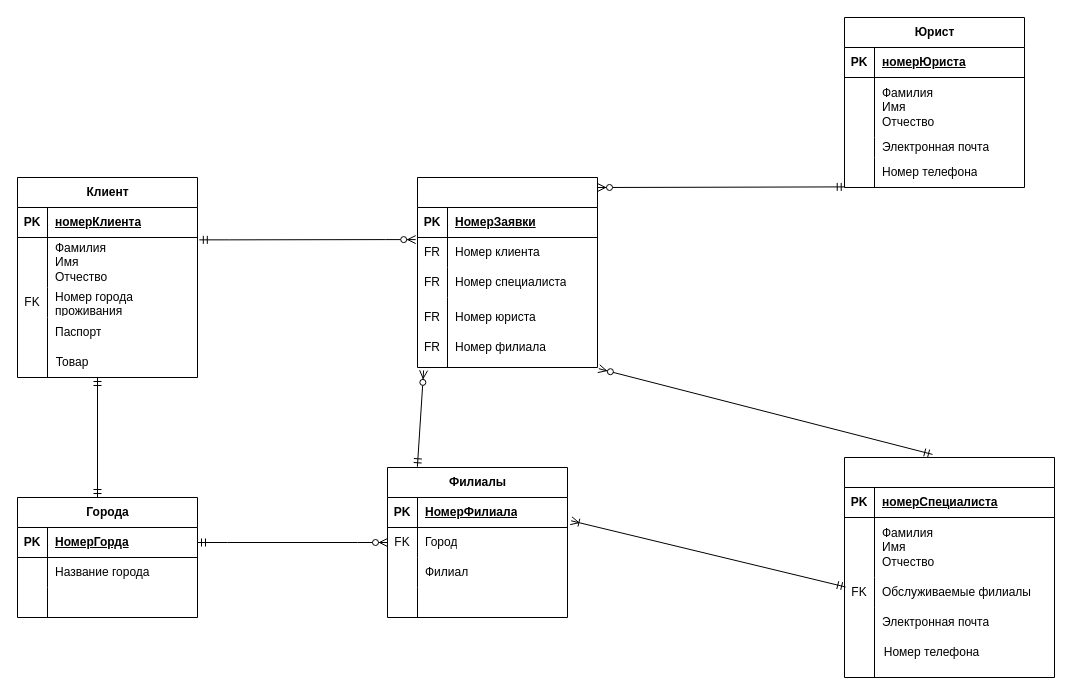
Some shapes in this 1072 by 696 pixel diagram are drawn without their labels. The box of each missing label's shape, as (x1, y1, x2, y2) in pixels:
Обращение: (416, 176, 598, 368)
Специалист клиентской службы: (844, 456, 1054, 678)
